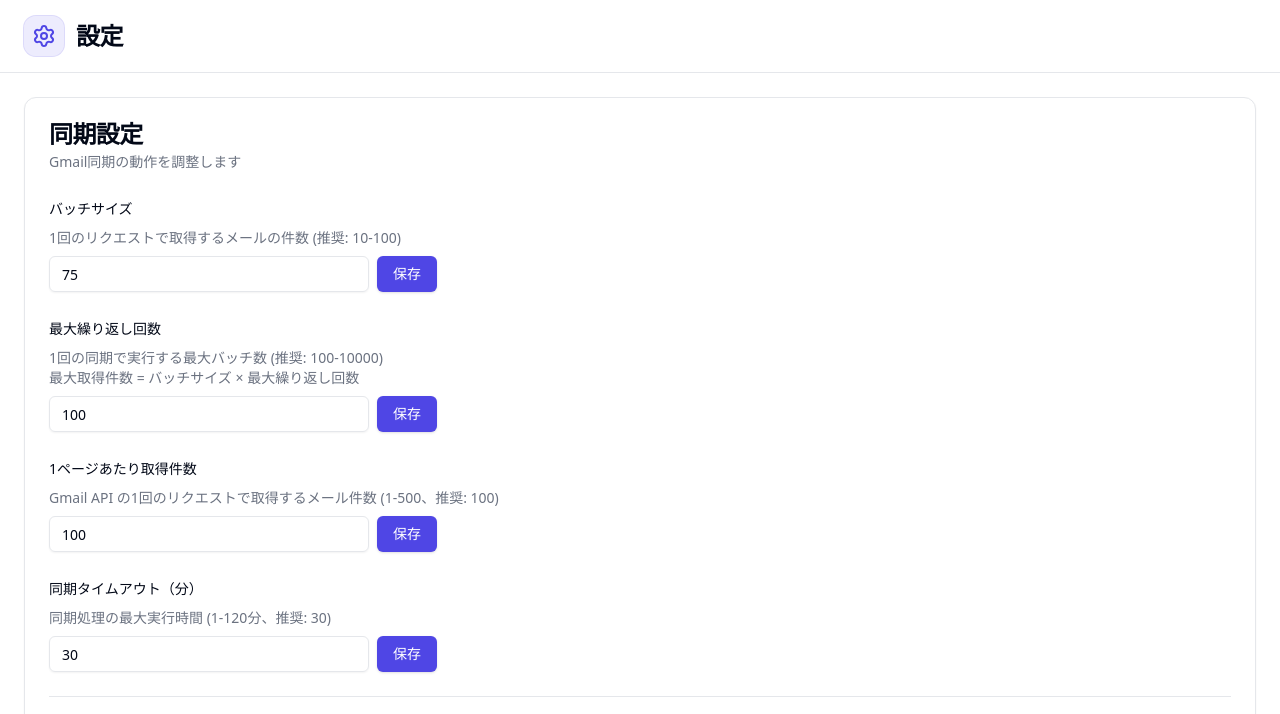
Settings › handleSaveBatchSize › saves batch size successfully
This screenshot has width=1280, height=714.
Check: the number field with id "batch-size" holds "75", box [49,256,369,292]
Click the button with aria-label "同期バッチサイズを保存" at (407, 274), box [377,256,437,292]
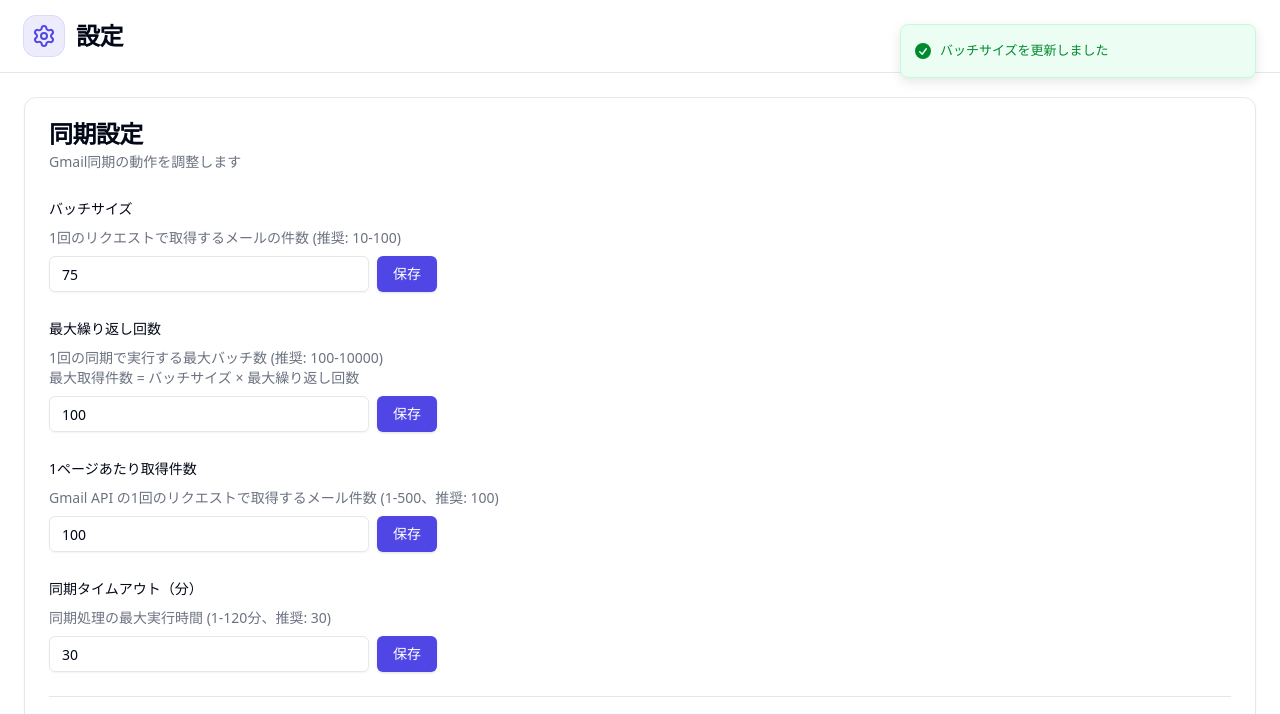
Check: the text "バッチサイズを更新しました" is shown, box [940,41,1109,60]
